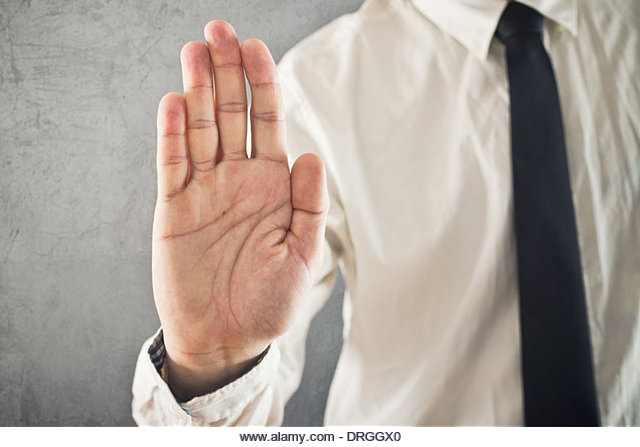non-diseased: (154, 13, 330, 344)
